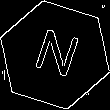N_S: (27, 24, 83, 86)
